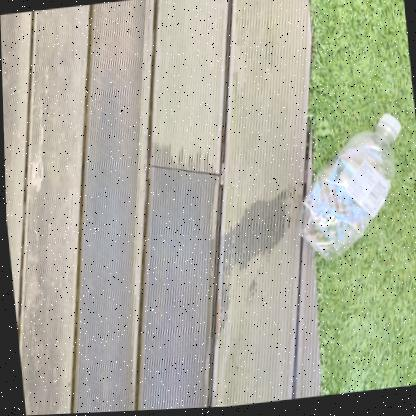Plastic: (300, 115, 400, 262)
